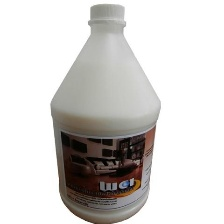cleaning_solution: (47, 1, 163, 224)
